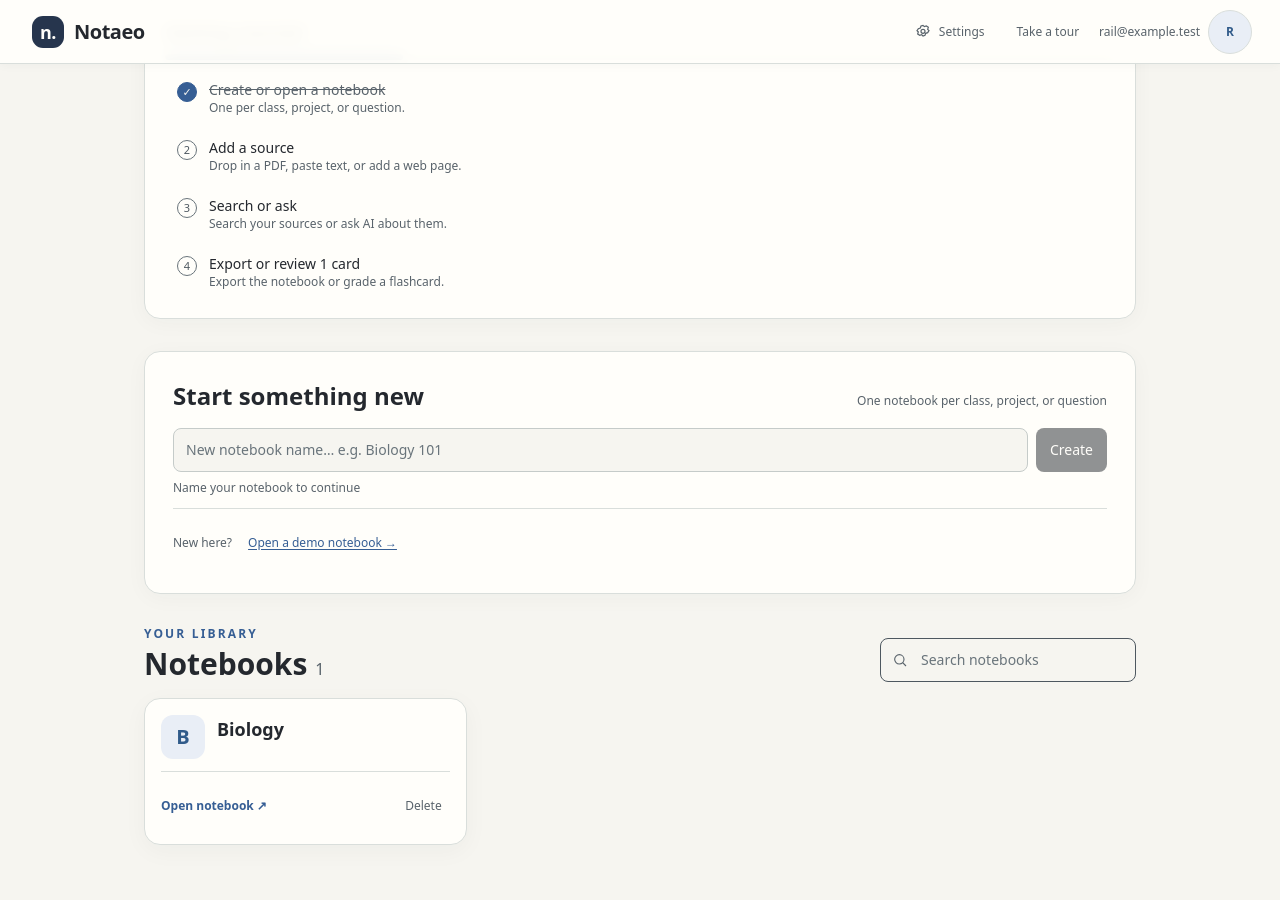
Test: gives the xl workspace rails room: widened rails, grid intact
(page scrolled)
Click the button with aria-label "Open Biology": (183, 737) [161, 715, 450, 759]
(page scrolled)
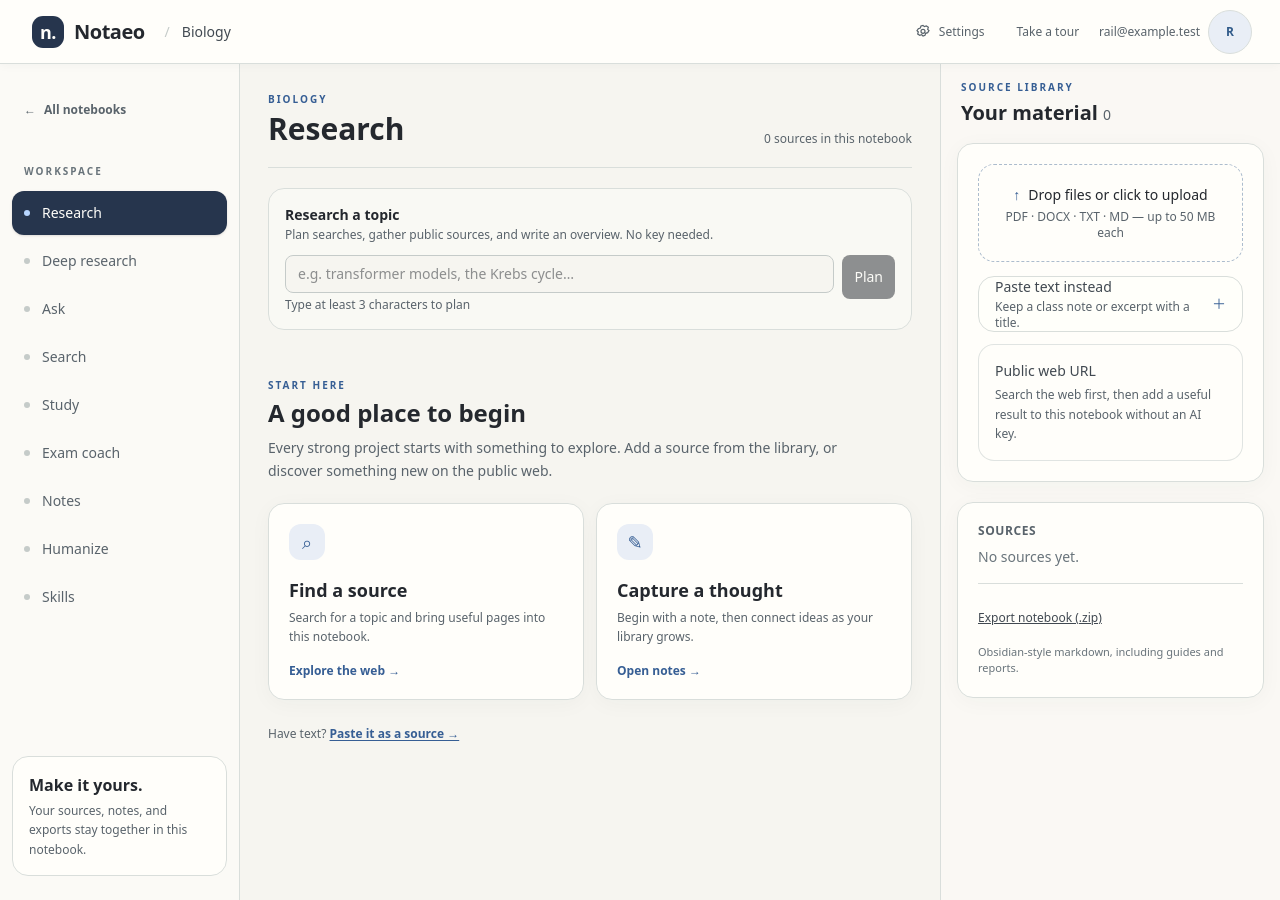
Result: the element that starts with "All notebooks" is shown
